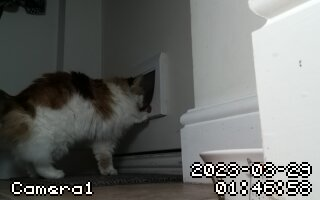clara: (7, 68, 162, 188)
